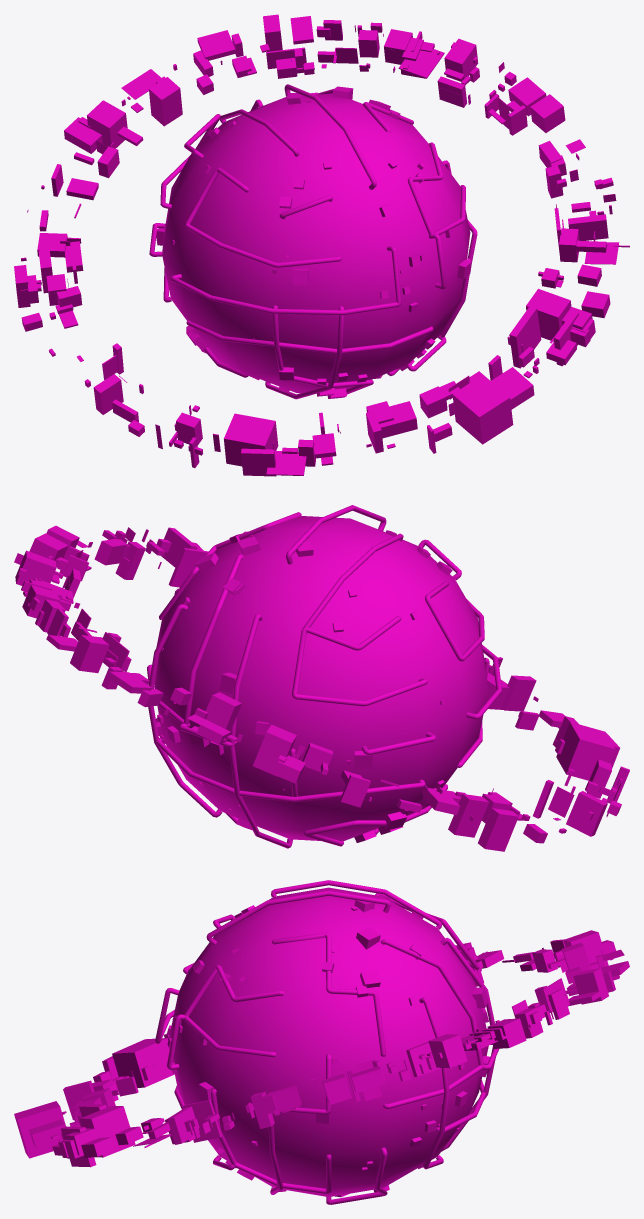
File: BadPlanetCollectable.fbx
3 renders of one model, top to bottom at view 1: azimuth 30°, elevation 25°; view 2: azimuth 150°, elevation 25°; view 3: azimuth 270°, elevation 25°, orthographic. The views are drawn at different scales.
Visible parts, largest first — view 1: PlanetBase, OuterCubeRing, Pipes, Planetcubes; view 2: PlanetBase, OuterCubeRing, Pipes, Planetcubes; view 3: PlanetBase, OuterCubeRing, Pipes, Planetcubes.
Boxes of the visible parts, x1,y1,x2,y2 form: PlanetBase: [162, 93, 470, 392]; OuterCubeRing: [14, 14, 629, 476]; Pipes: [149, 84, 477, 399]; Planetcubes: [156, 86, 471, 398]; PlanetBase: [154, 516, 488, 841]; OuterCubeRing: [14, 525, 629, 851]; Pipes: [147, 505, 501, 848]; Planetcubes: [156, 530, 478, 842]; PlanetBase: [169, 887, 488, 1196]; OuterCubeRing: [14, 930, 629, 1167]; Pipes: [155, 880, 499, 1204]; Planetcubes: [166, 894, 490, 1197].
Bounding box in the file's own units: 511 × 283 × 530.
